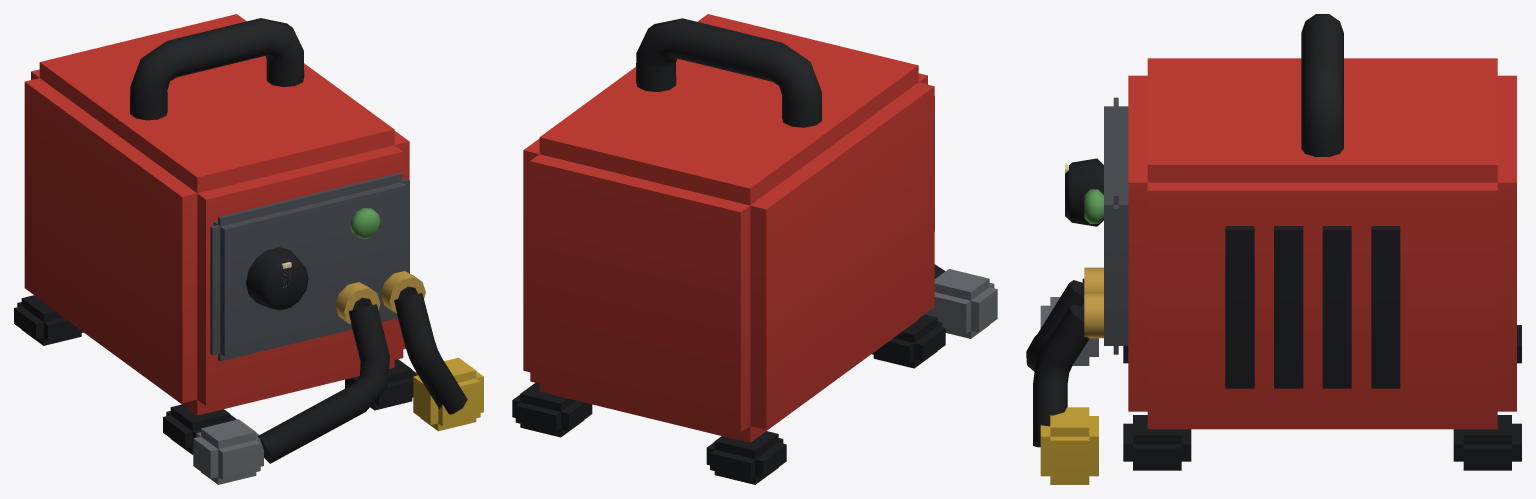
The model's file is SM_Welder_Stick_01.glb.
3 views of the same model, side by side, from view 1: azimuth 30°, elevation 25°; view 2: azimuth 150°, elevation 25°; view 3: azimuth 270°, elevation 25° (orthographic). The views are drawn at different scales.
Visible parts, largest first — view 1: SM_Welder_Stick_01; view 2: SM_Welder_Stick_01; view 3: SM_Welder_Stick_01.
Boxes of the visible parts, x1,y1,x2,y2 form: SM_Welder_Stick_01: (14, 14, 483, 484); SM_Welder_Stick_01: (512, 14, 997, 484); SM_Welder_Stick_01: (1026, 14, 1521, 484).
Bounding box in the file's own units: 0.36 × 0.4209 × 0.51.
Materials: 1 (1 with a texture image).
